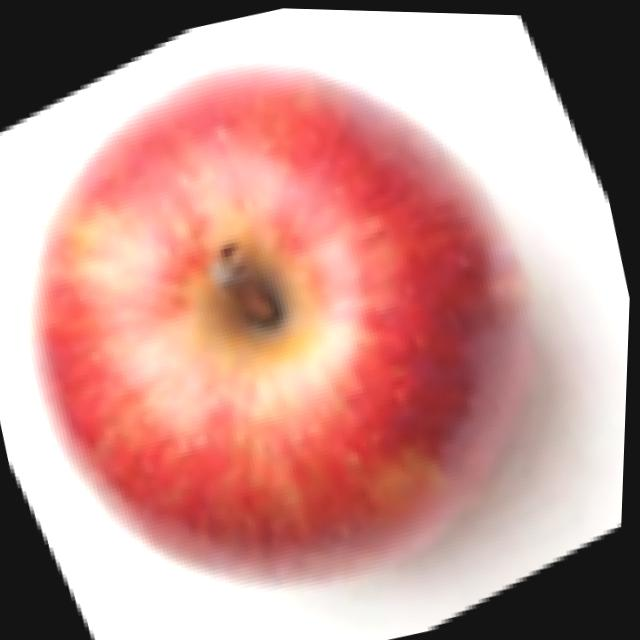organik: (0, 0, 590, 629)
